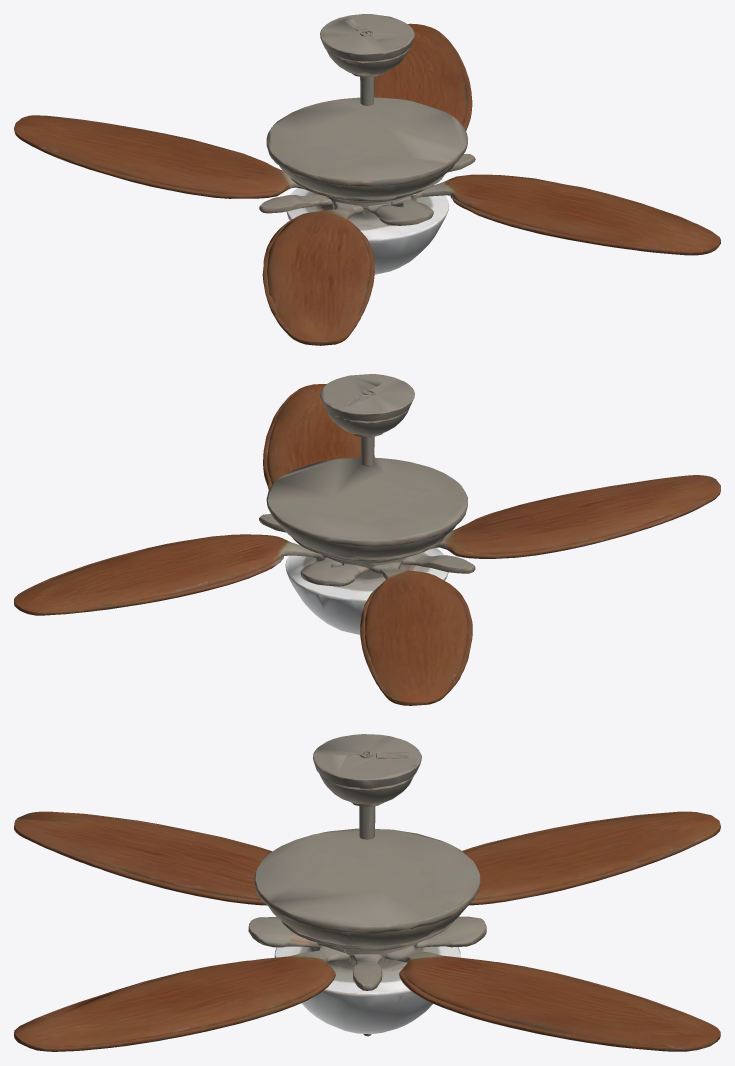
Rendered from fan.lo.glb.
The picture shows the model from 3 angles, top to bottom: view 1: azimuth 30°, elevation 25°; view 2: azimuth 150°, elevation 25°; view 3: azimuth 270°, elevation 25°; orthographic projection. The views are drawn at different scales.
Parts seen in each view (by area): view 1: Mesh; view 2: Mesh; view 3: Mesh.
Boxes of the visible parts, <box> form: Mesh: <box>14,14,720,345</box>; Mesh: <box>14,374,720,705</box>; Mesh: <box>14,734,720,1051</box>.
Size of the model in its own units: 1.51 by 0.8333 by 1.9.
Materials: 1 (1 with a texture image).
